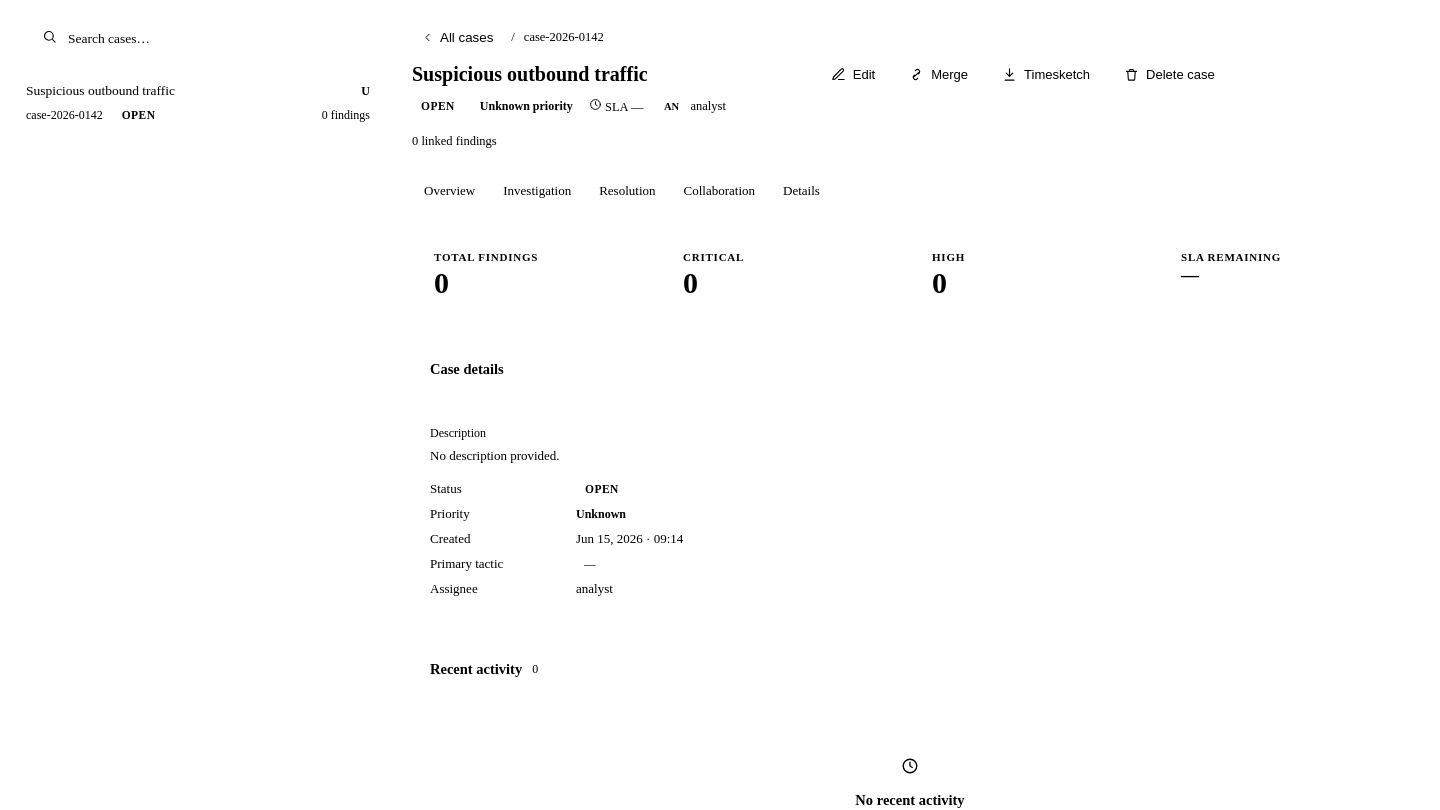
unknown priority › keeps Unknown selected in the edit dialog
Expected: the heading "Suspicious outbound traffic" is shown, left=412, top=63, right=648, bottom=85
Expected: the text "Unknown priority" is shown, left=480, top=98, right=573, bottom=114
Click the button "Edit" at coordinates (853, 74), box left=818, top=59, right=888, bottom=90
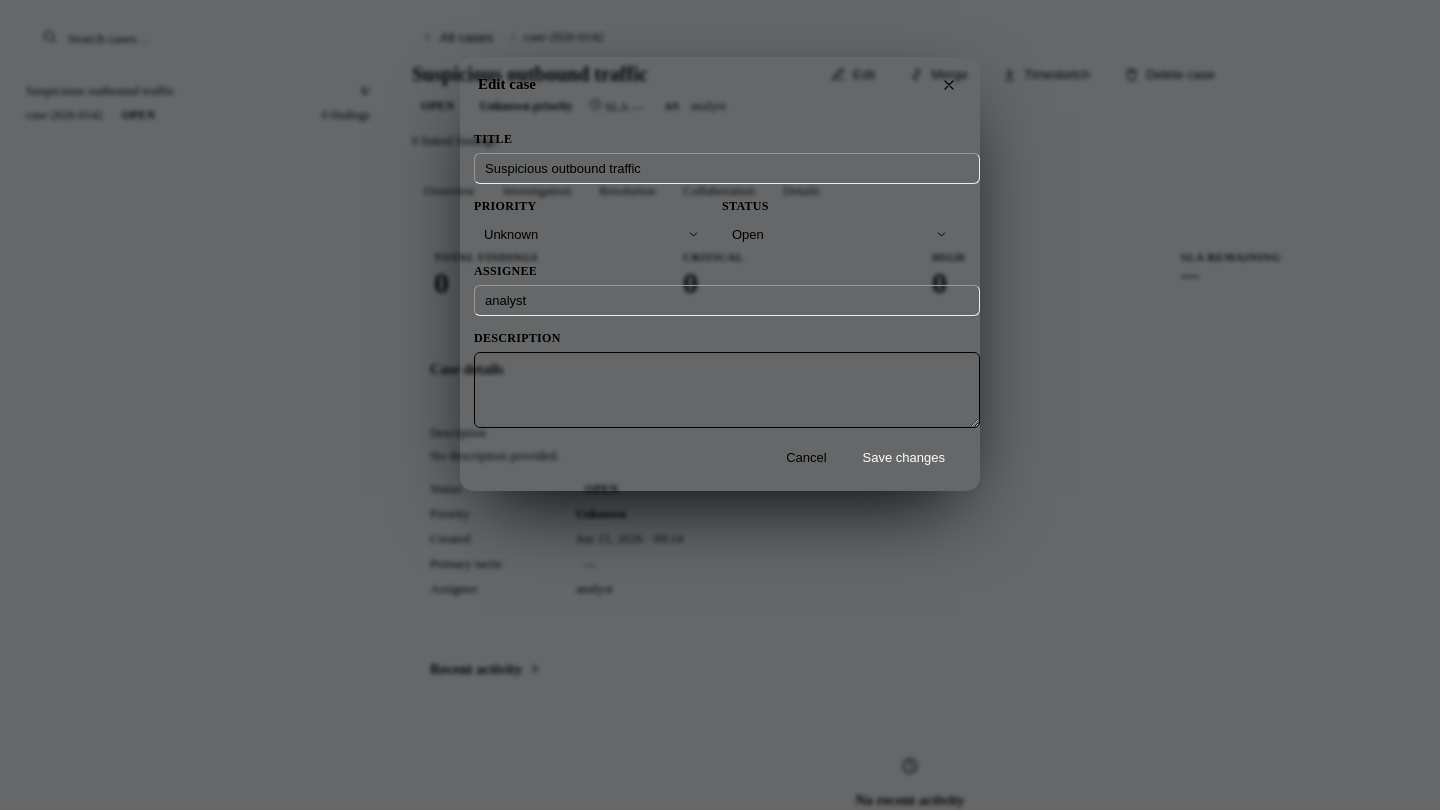
Expected: the text "Unknown" is shown, left=484, top=227, right=538, bottom=242
